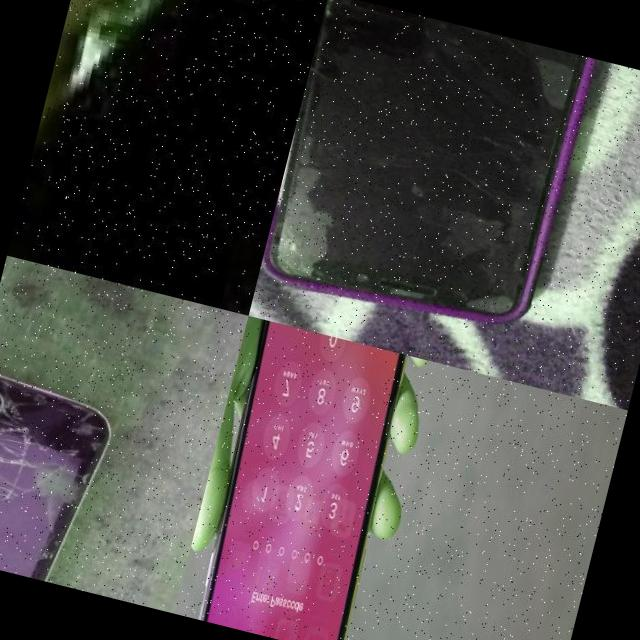screen crack: (0, 350, 154, 596), (258, 218, 332, 292)
